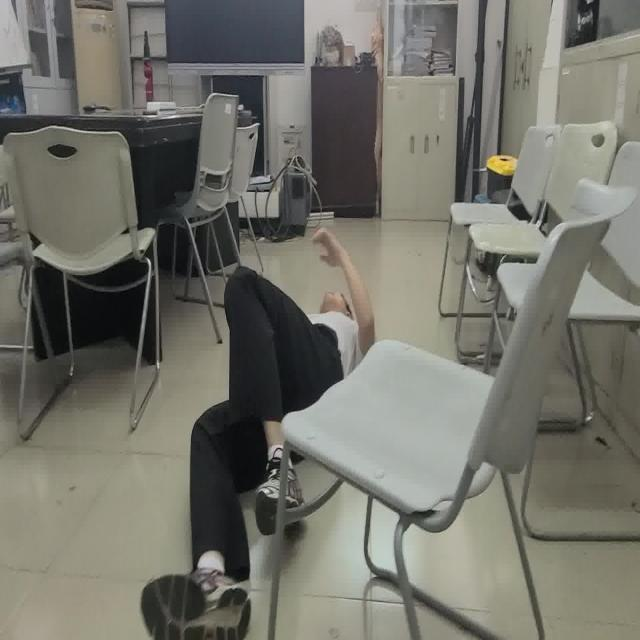fall: (138, 225, 378, 640)
